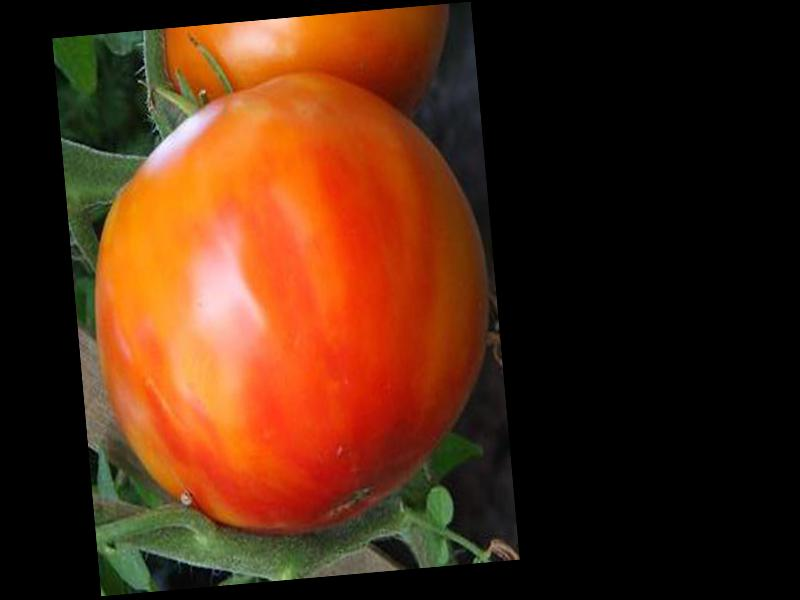Tomato: (76, 64, 507, 546)
